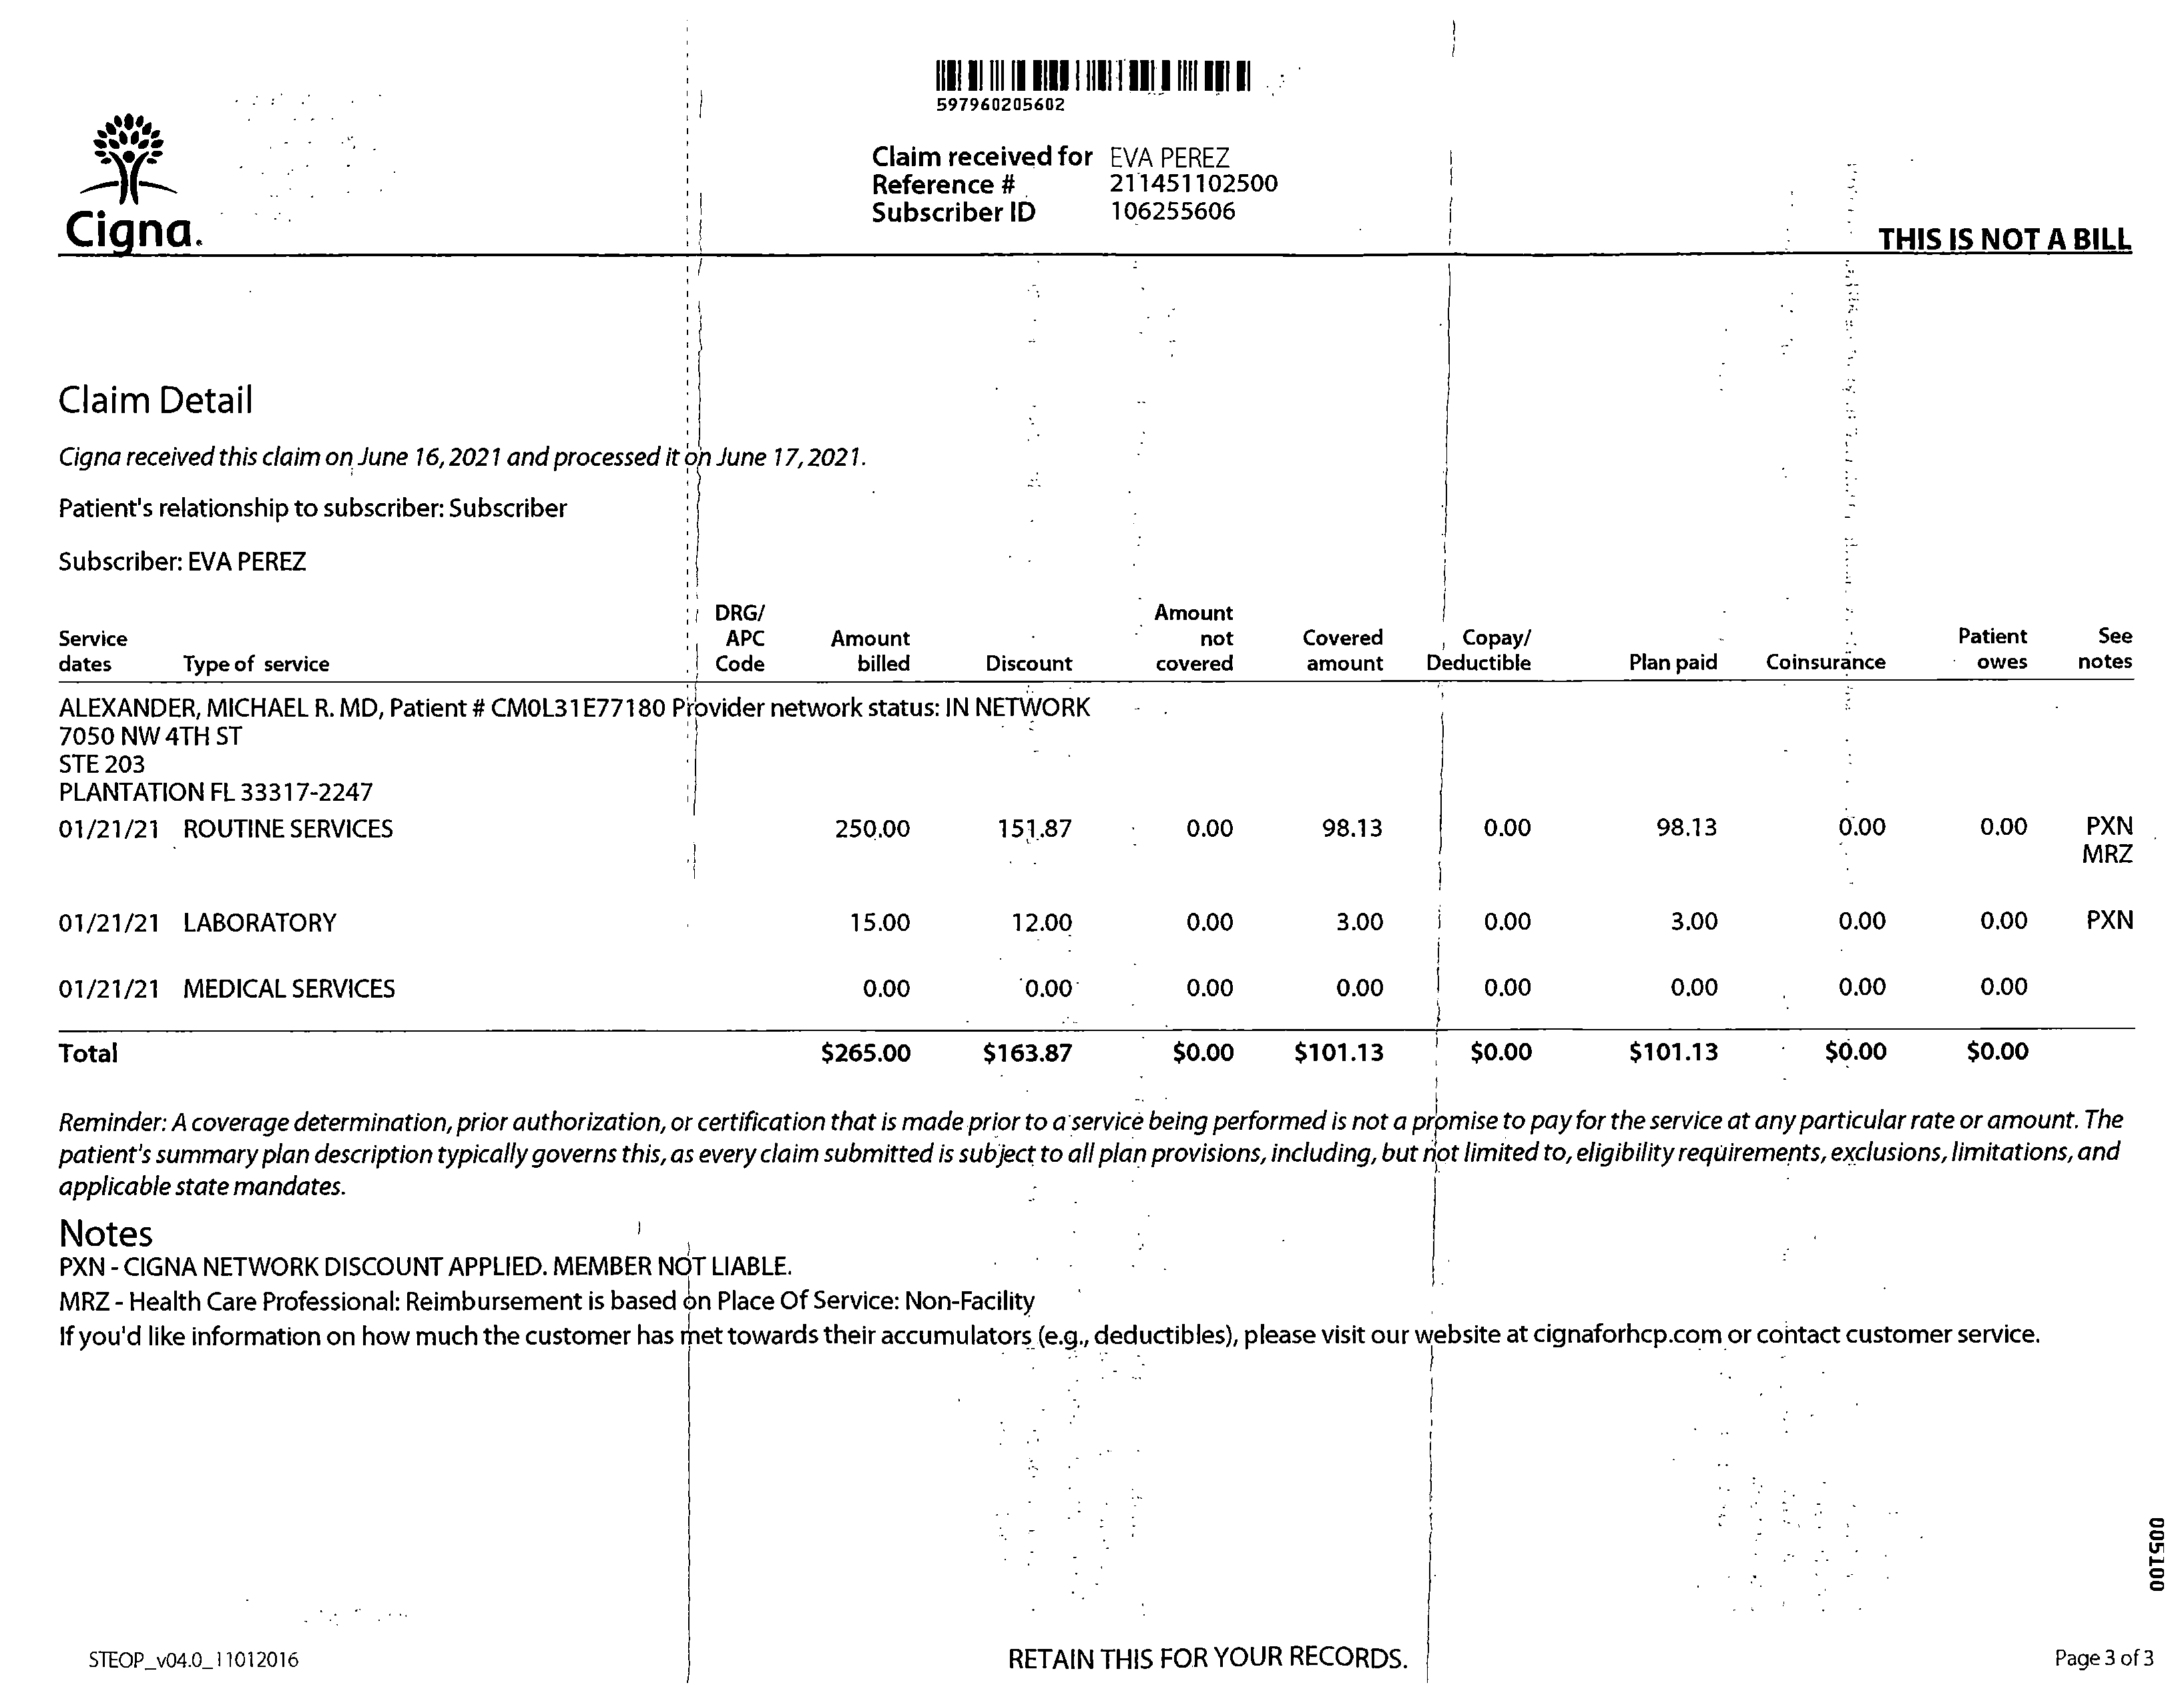table: (32, 592, 2141, 1085)
